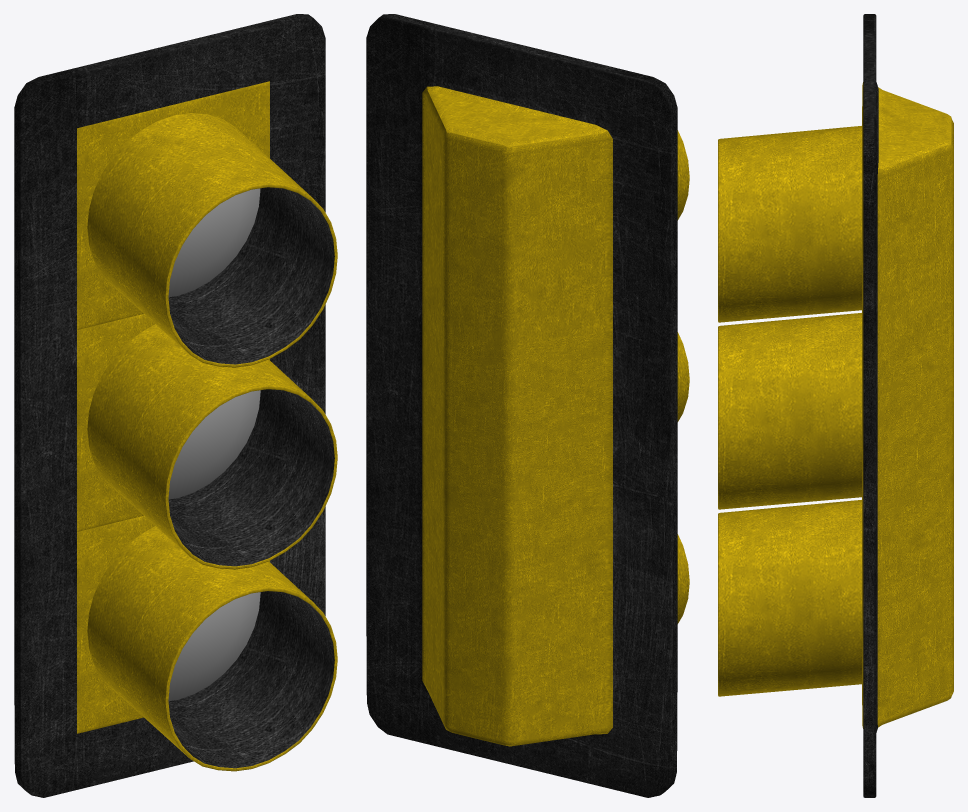
Rendered from TrafficSignalVerticalFullConeYellowBlack3.fbx.
3 views of the same model, side by side, from view 1: azimuth 30°, elevation 25°; view 2: azimuth 150°, elevation 25°; view 3: azimuth 270°, elevation 25° (orthographic). The views are drawn at different scales.
Parts seen in each view (by area): view 1: Casing, SignalLight1, SignalLight2, SignalLight0; view 2: Casing; view 3: Casing.
Boxes of the visible parts, x1,y1,x2,y2 form: Casing: (14,14,337,797); SignalLight1: (168,390,260,499); SignalLight2: (168,592,260,701); SignalLight0: (168,188,260,297); Casing: (366,14,689,797); Casing: (718,14,953,797).
Bounding box in the file's own units: 0.6568 × 1.47 × 0.473.
